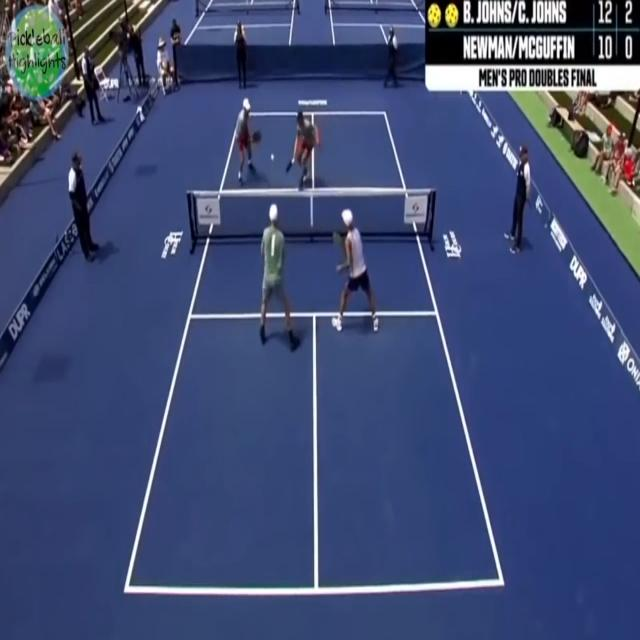ball: (266, 144, 277, 167)
